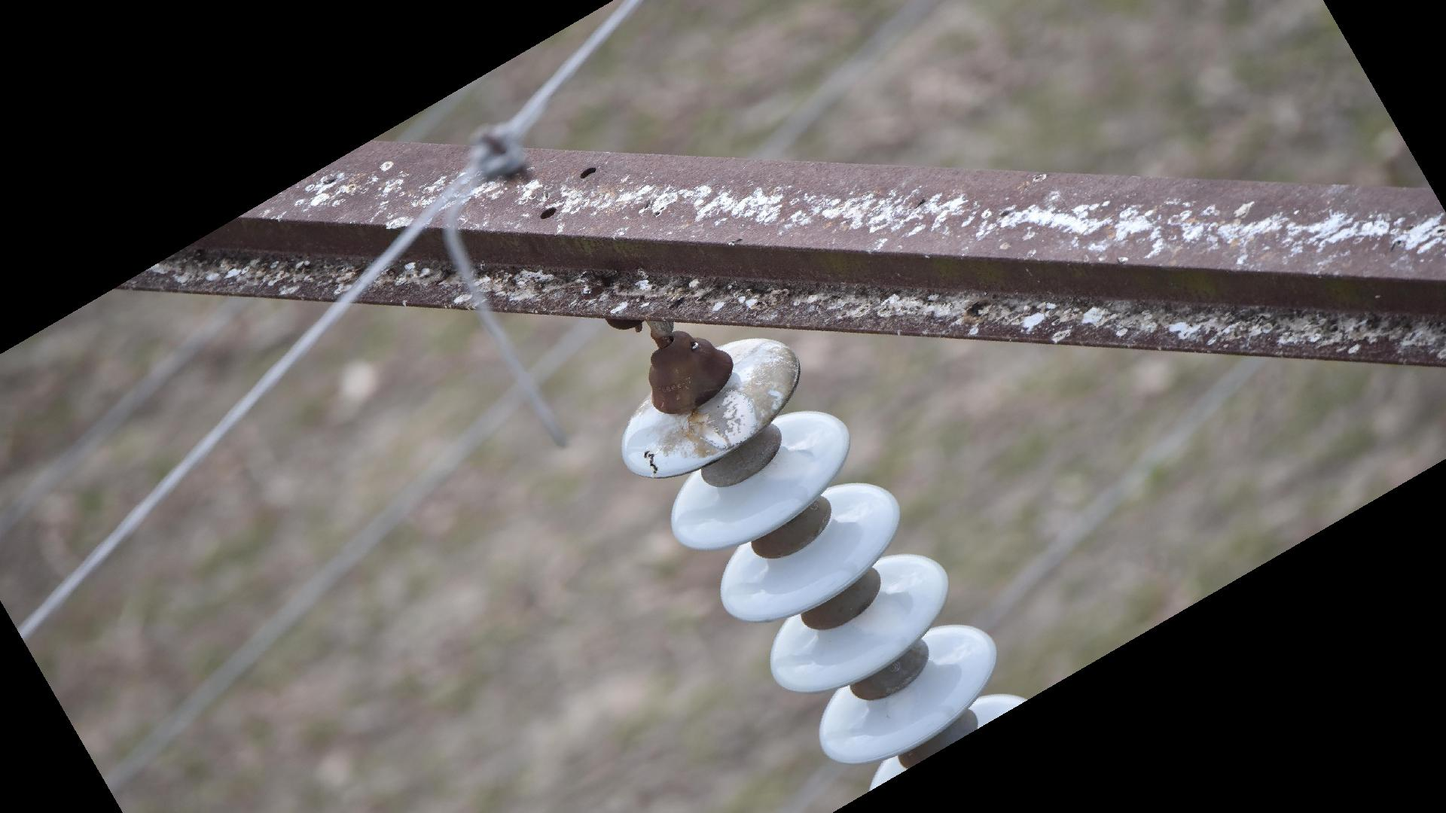insulator: (615, 333, 1033, 796)
insulator_flashover: (688, 382, 761, 456)
